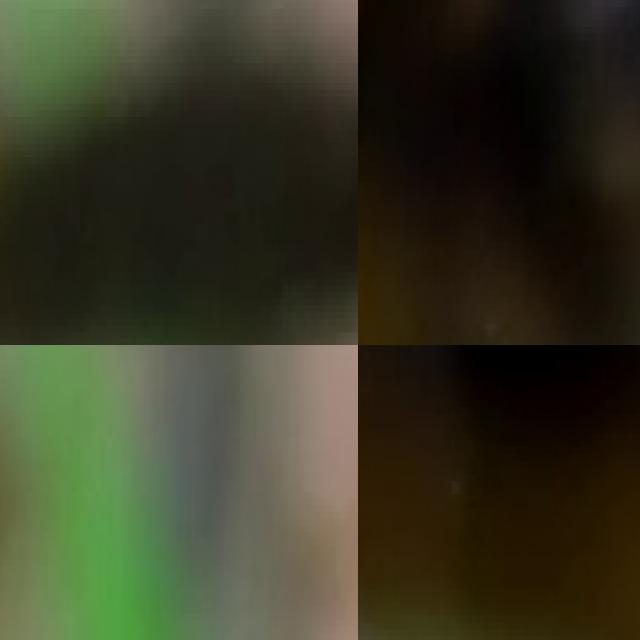fish: (0, 0, 358, 345), (358, 0, 640, 345)
